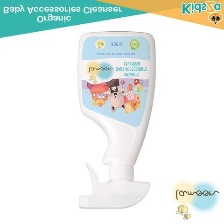cleaning_solution: (70, 28, 158, 214)
